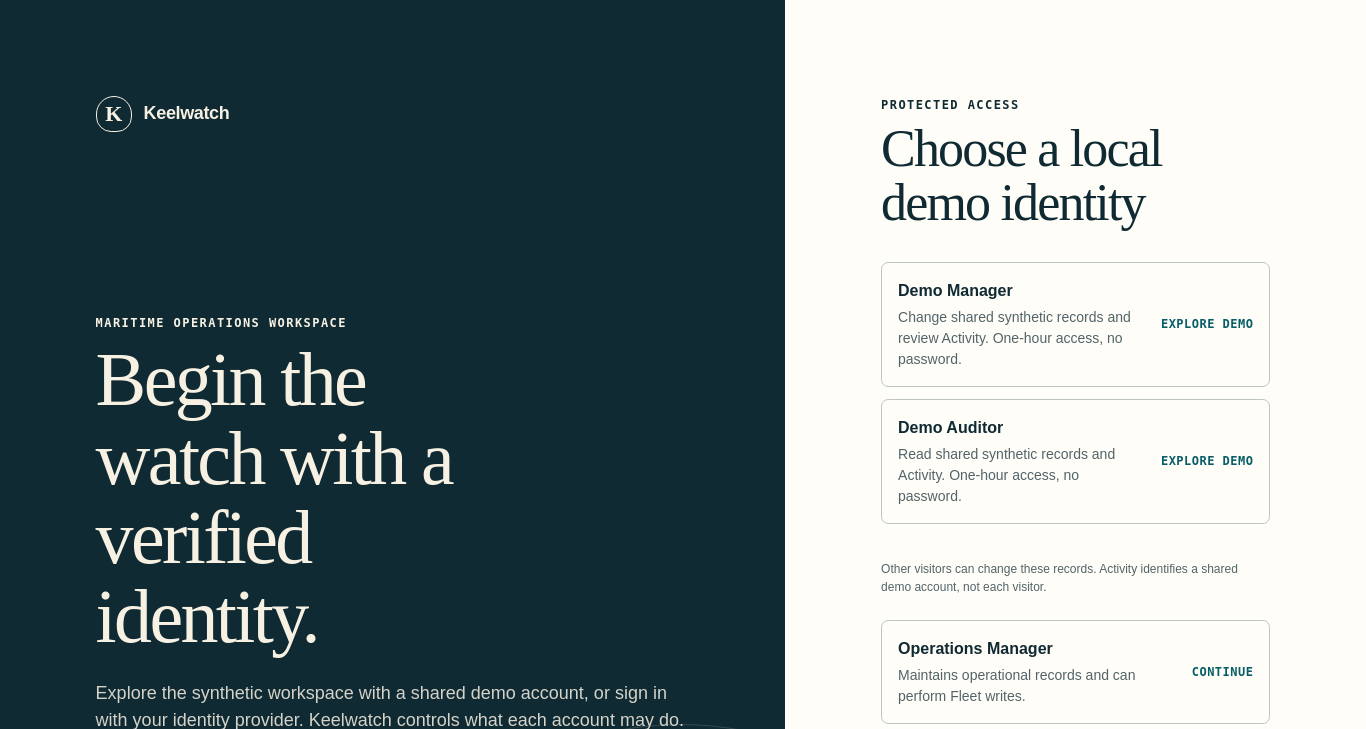
Scenario: Demo Manager through the real Fleet screens › retains form values after a write limit and saves with the same session on retry
Click the button "Demo Manager": {"x": 1076, "y": 324} [881,262,1270,387]
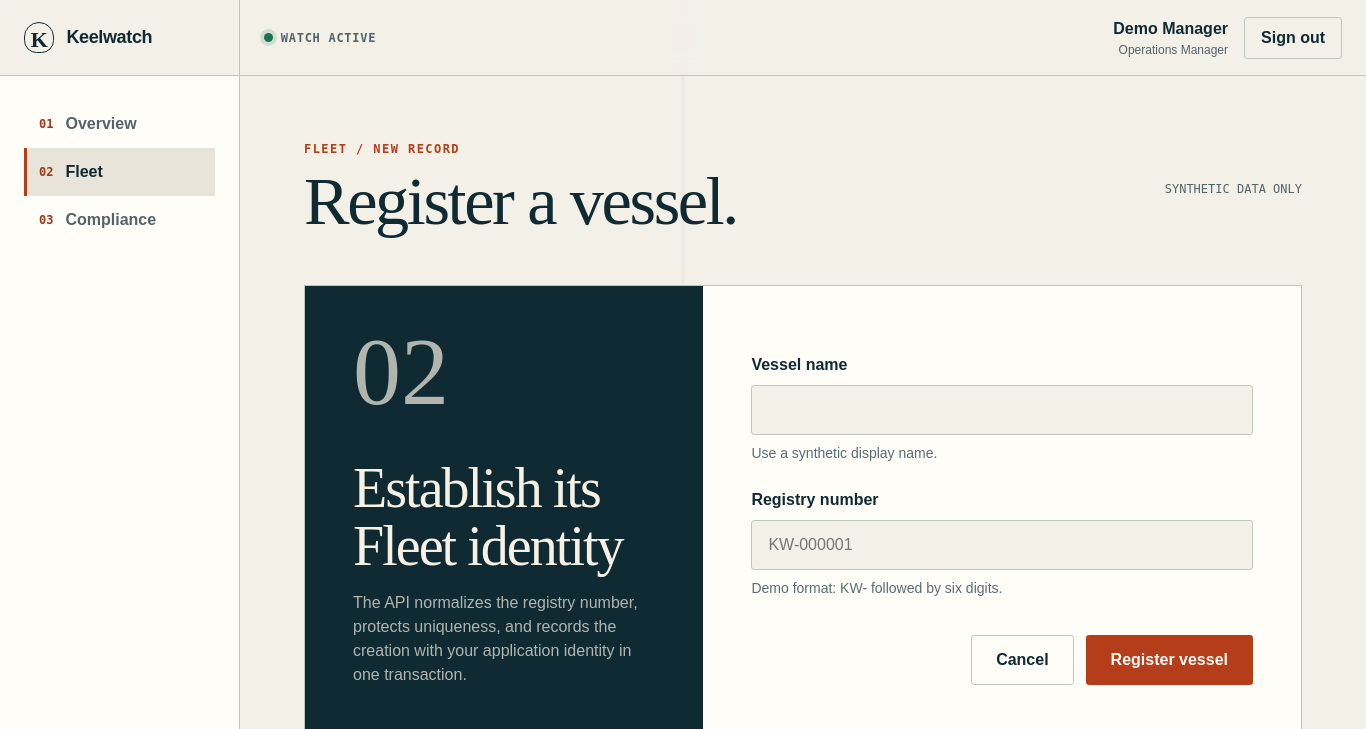
In the field labelled "Vessel name": {"x": 1002, "y": 410} [751,385,1253,435], type "MV Retained Demo Draft"
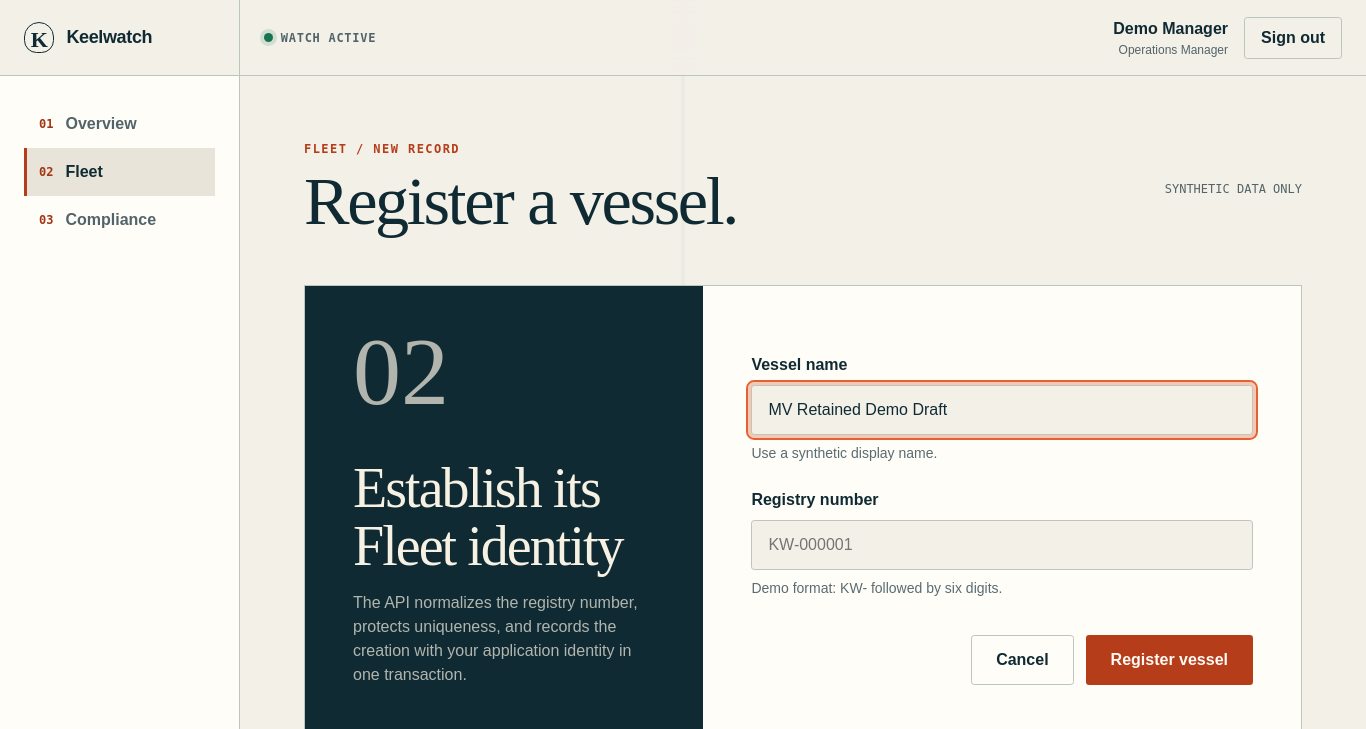
In the field labelled "Registry number": {"x": 1002, "y": 545} [751,520,1253,570], type "KW-900013"
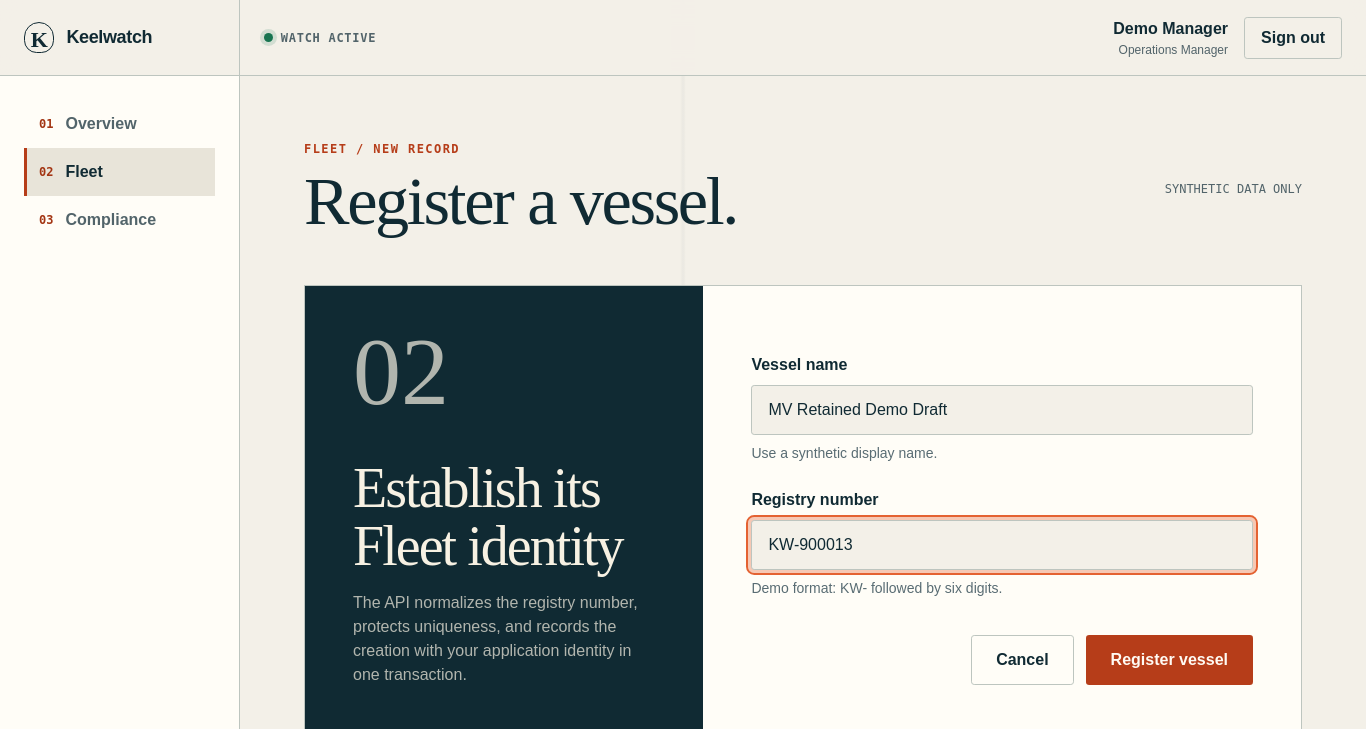
Click the button "Register vessel": {"x": 1169, "y": 660} [1086,635,1253,685]
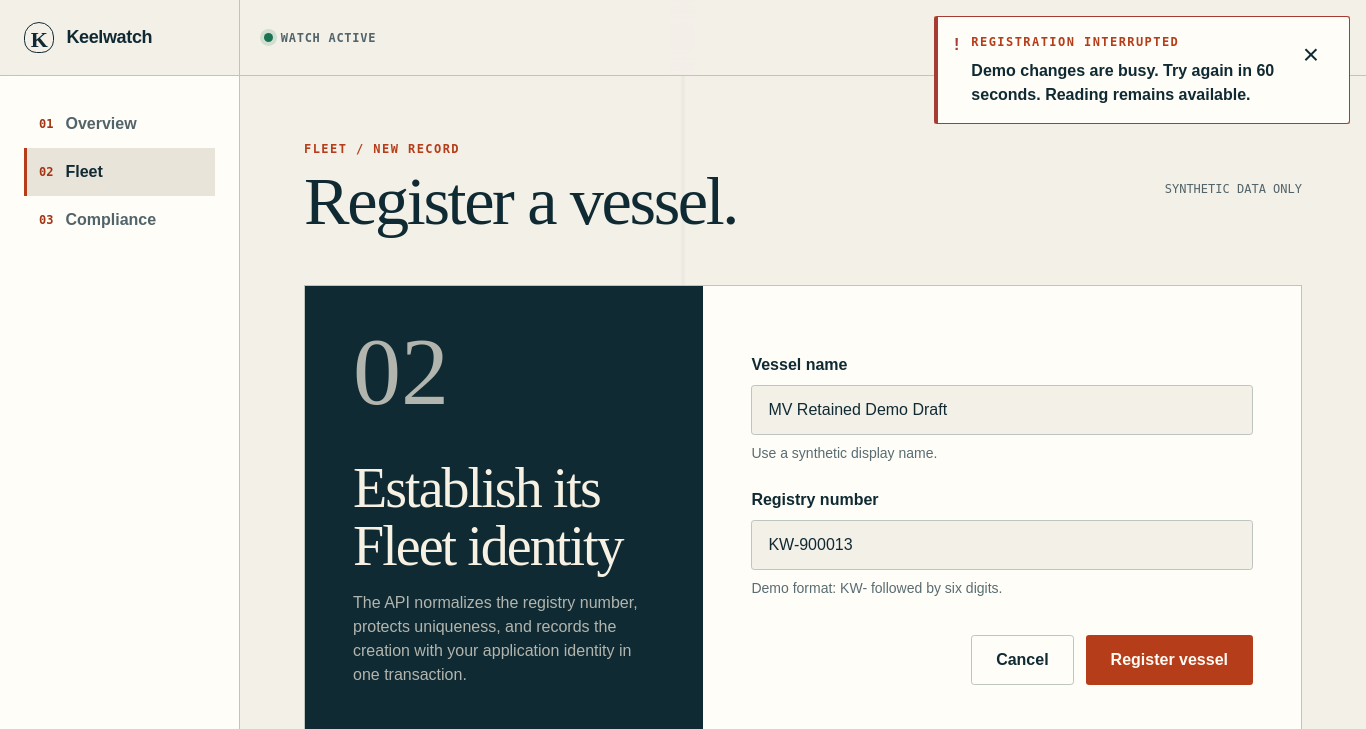
Expected: the message shows "Try again in 60 seconds. Reading remains available.", [971,62,1274,103]
Click the button "Register vessel": {"x": 1169, "y": 660} [1086,635,1253,685]
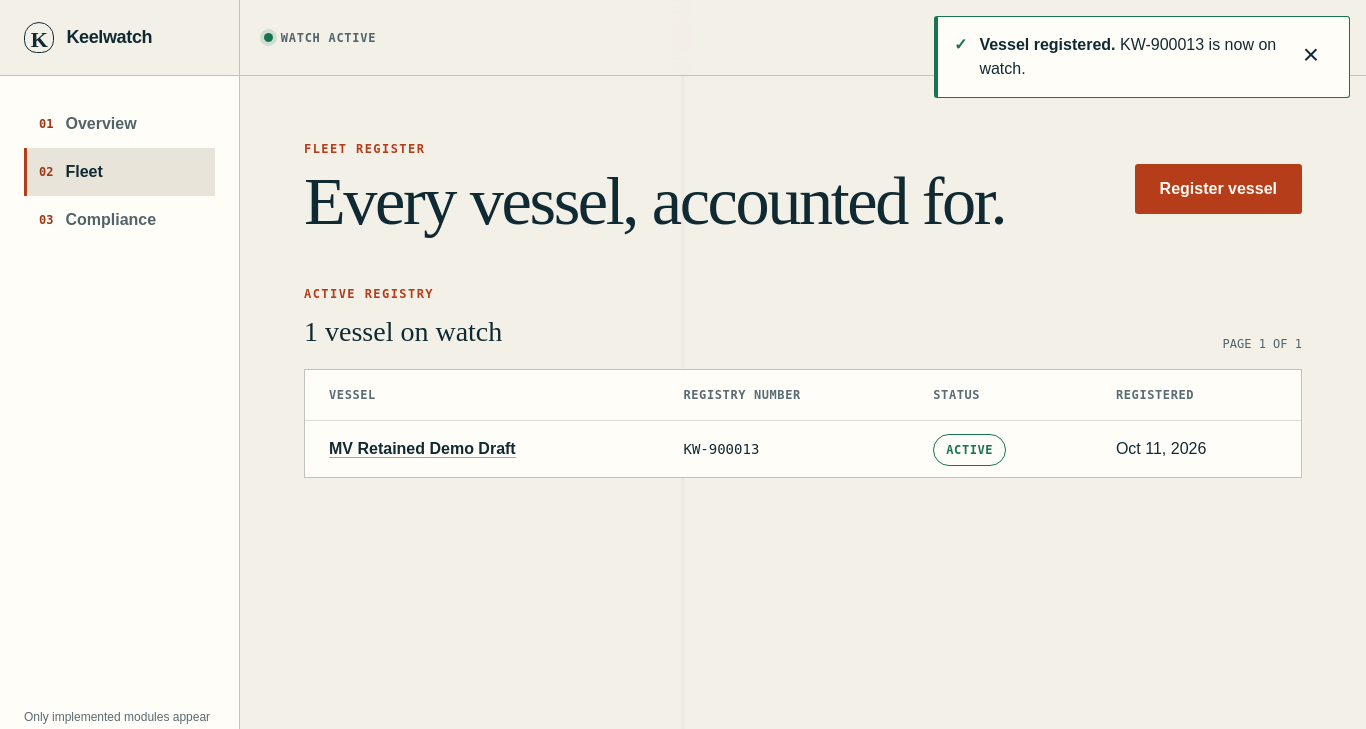
Expected: the heading "1 vessel on watch" is shown, [304,311,502,353]
